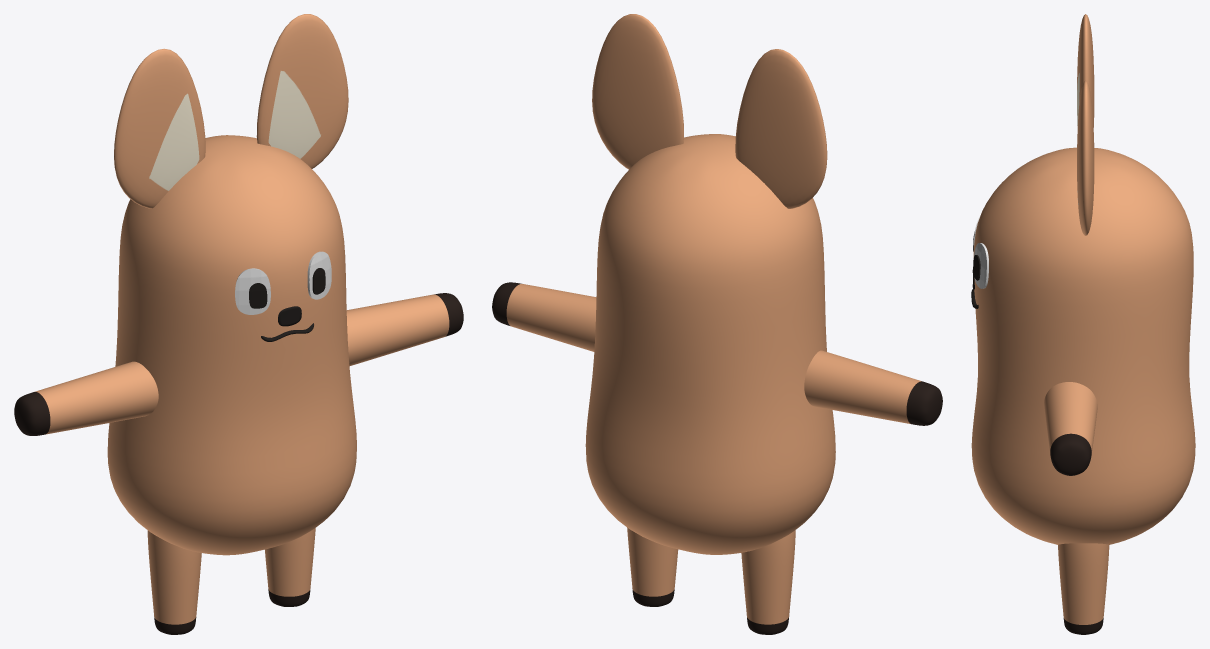
The model's file is Will_Elk.fbx.
3 views of the same model, side by side, from view 1: azimuth 30°, elevation 25°; view 2: azimuth 150°, elevation 25°; view 3: azimuth 270°, elevation 25° (orthographic). The views are drawn at different scales.
Visible parts, largest first — view 1: Elk_body, Elk_ears, Elk_arm_L, Elk_leg_L, Elk_EyesBack, Elk_EyesPupils; view 2: Elk_body, Elk_ears, Elk_arm_L, Elk_leg_L; view 3: Elk_body, Elk_arm_L, Elk_leg_L, Elk_ears, Elk_EyesBack.
Part boxes in pixels (x1,y1,x2,y2): Elk_body: (107, 135, 356, 555); Elk_ears: (114, 14, 348, 208); Elk_arm_L: (14, 293, 463, 435); Elk_leg_L: (147, 528, 315, 634); Elk_EyesBack: (235, 251, 331, 314); Elk_EyesPupils: (249, 268, 325, 308); Elk_body: (585, 134, 835, 554); Elk_ears: (592, 14, 827, 208); Elk_arm_L: (492, 282, 942, 425); Elk_leg_L: (627, 527, 795, 634); Elk_body: (971, 147, 1195, 544); Elk_arm_L: (1044, 382, 1097, 475); Elk_leg_L: (1058, 543, 1109, 634); Elk_ears: (1077, 14, 1094, 235); Elk_EyesBack: (973, 216, 988, 288).
Bounding box in the file's own units: 117 × 149 × 54.7.
